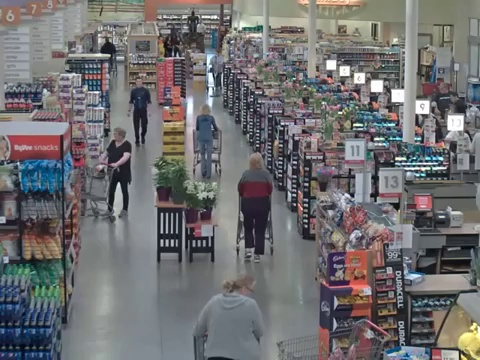face: (113, 132, 120, 140), (135, 79, 142, 86)
